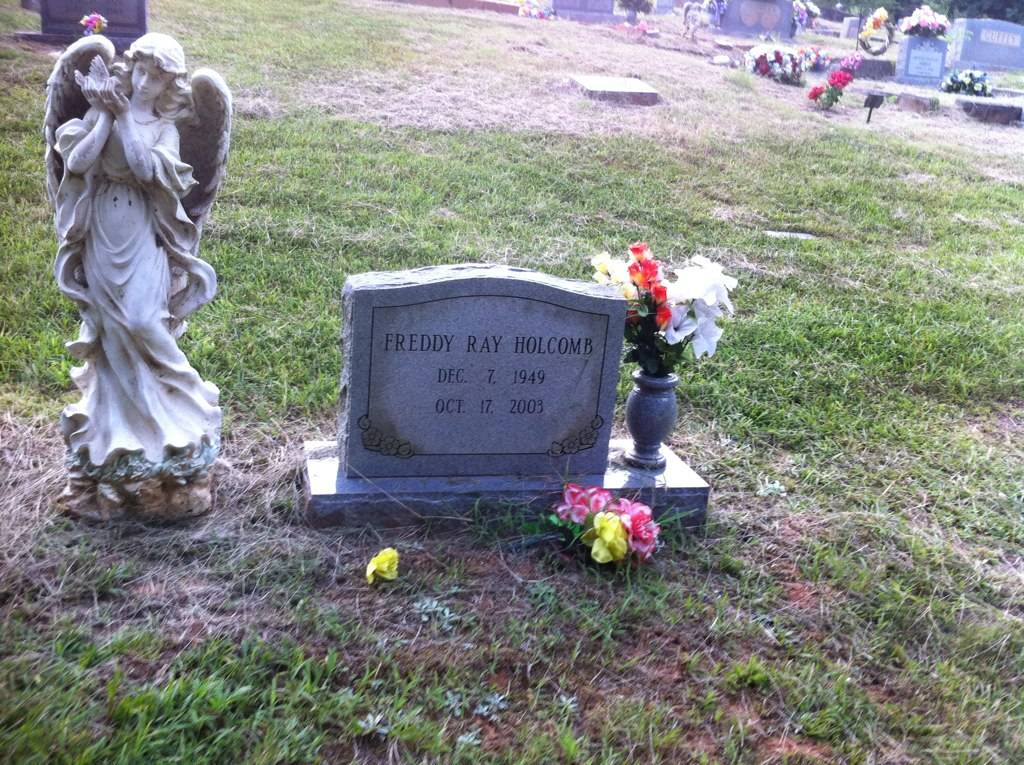upright: (334, 263, 626, 474)
